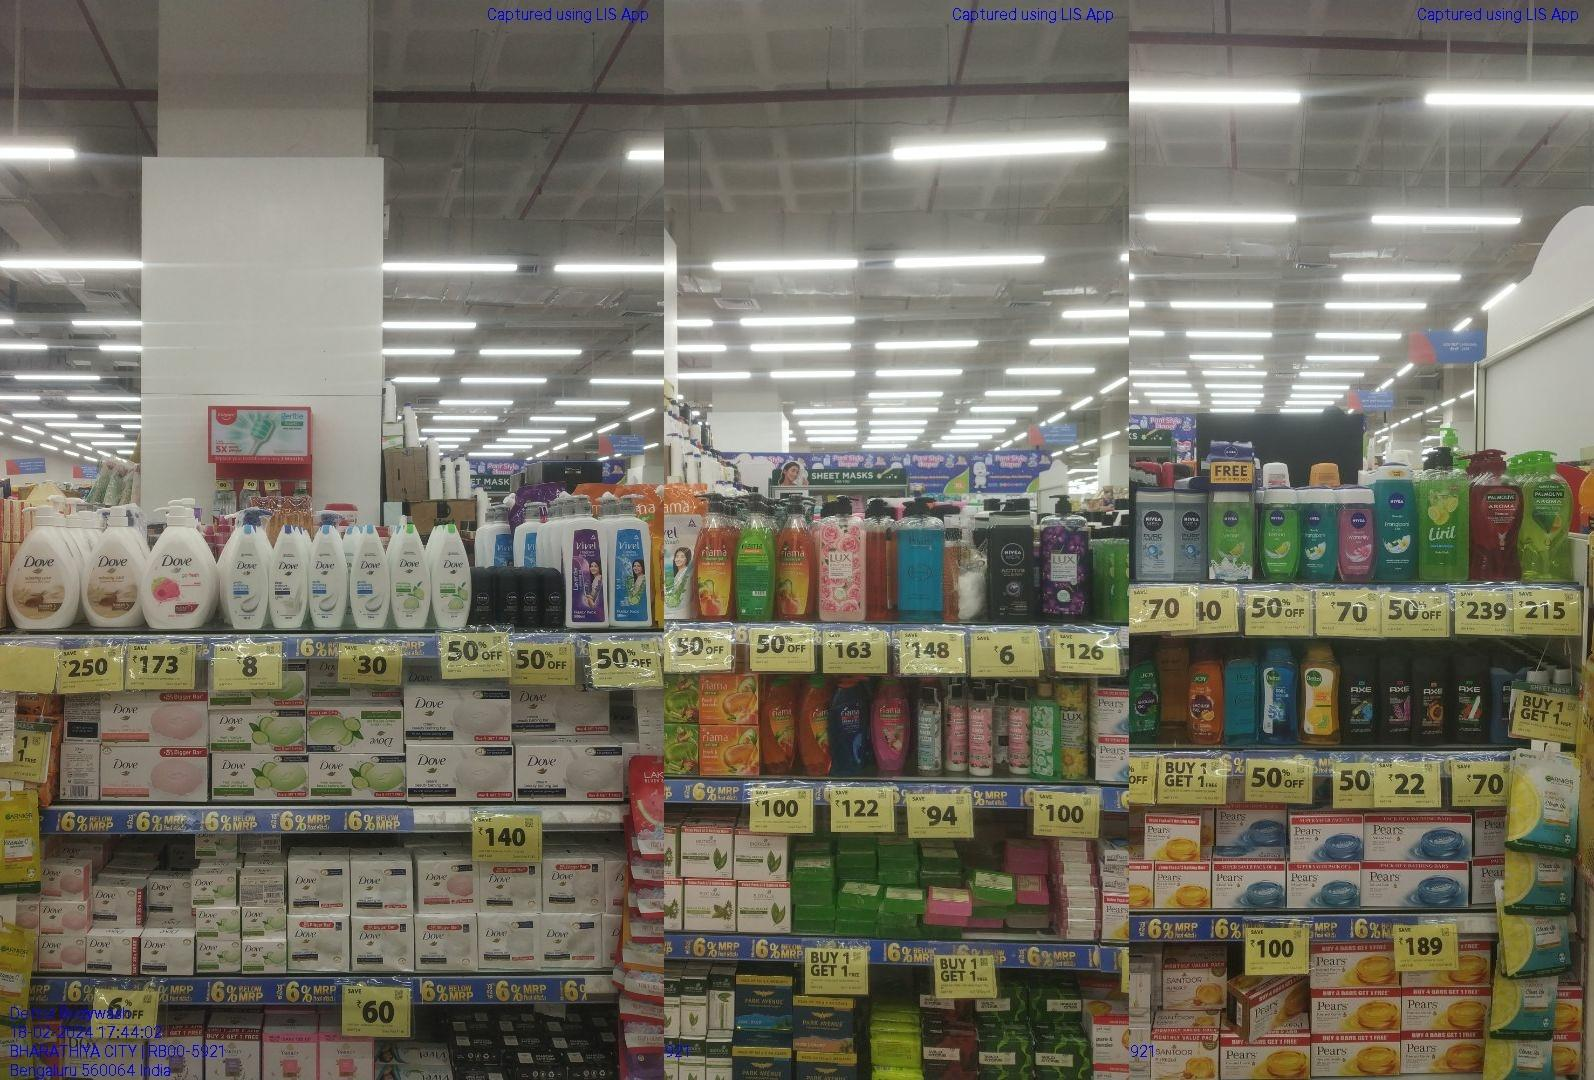Dettol_Bodywash_Cool: (1259, 644, 1300, 745)
Dettol_Bodywash_Refresh: (1302, 644, 1342, 746)
Dove_Deep_Moisture_Body_Wash_250ML: (271, 524, 305, 628)
Dove_Gentle_Exfoliating_Body_Wash_250ML: (228, 524, 270, 629), (349, 524, 390, 629), (307, 524, 348, 628)
Dove_Refreshing_Body_Wash_250ML: (392, 524, 430, 628), (433, 524, 470, 628)
Fiama_Shower_Gel_Patchouli_and_Macadamia_250ML: (871, 677, 908, 773)
Fiama_Shower_Gel_Peach_and_Avocado_250ML: (761, 679, 798, 774), (799, 677, 828, 776)
Joy_Shower_Gel_Mandarin_and_Lemongrass_250ML: (1186, 647, 1224, 745)
Joy_Shower_Gel_Mint_and_Eucalyptus_250ML: (1130, 648, 1160, 736)
Lux_Body_Wash_Skin_Detox_Freesia_Scent_and_Alove_Vera_245ML: (1031, 681, 1061, 780)
Nivea_Shower_Gel_Frangipani_and_Oil_250ML: (1301, 488, 1336, 581)
Nivea_Shower_Gel_Lemon_and_Oil_250ML: (1263, 488, 1300, 581)
Nivea_Shower_Gel_Waterlily_and_Oil_250ML: (1337, 488, 1376, 582)
Pears_Pure_Glycerin_and_Mint_Extracts_Body_Wash_250ML: (1225, 644, 1258, 746)
